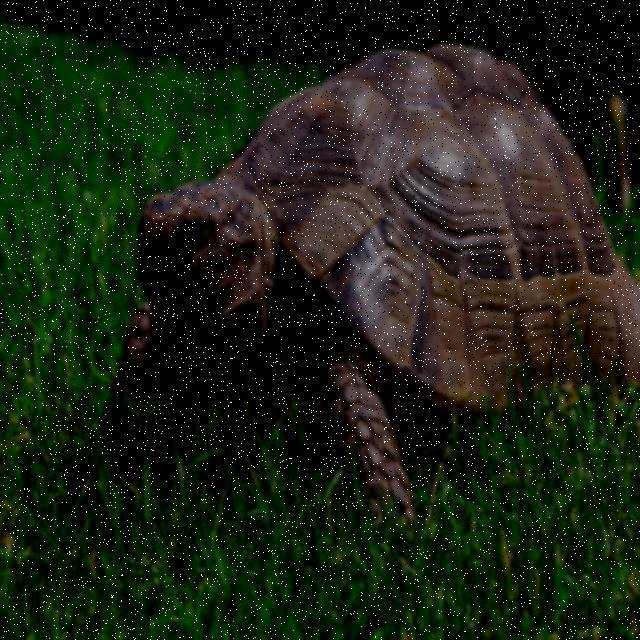tortoise: (90, 19, 640, 527)
